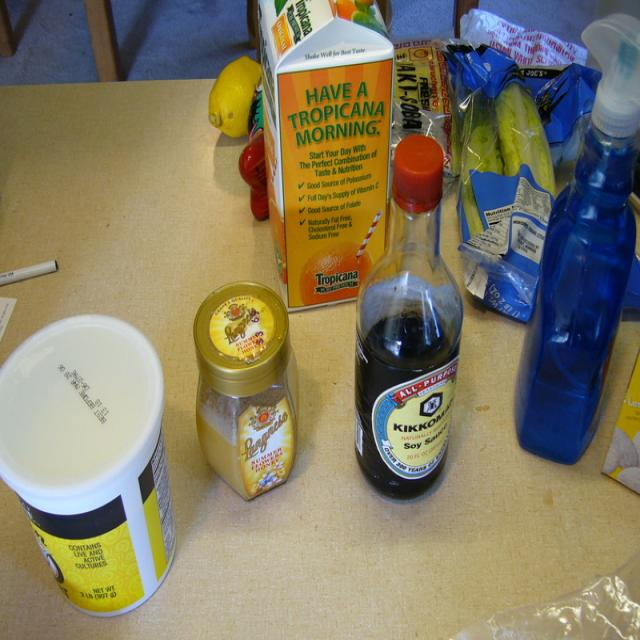container -bottle - jar: (515, 15, 639, 463), (0, 315, 175, 616), (356, 135, 462, 498), (194, 282, 298, 500)
